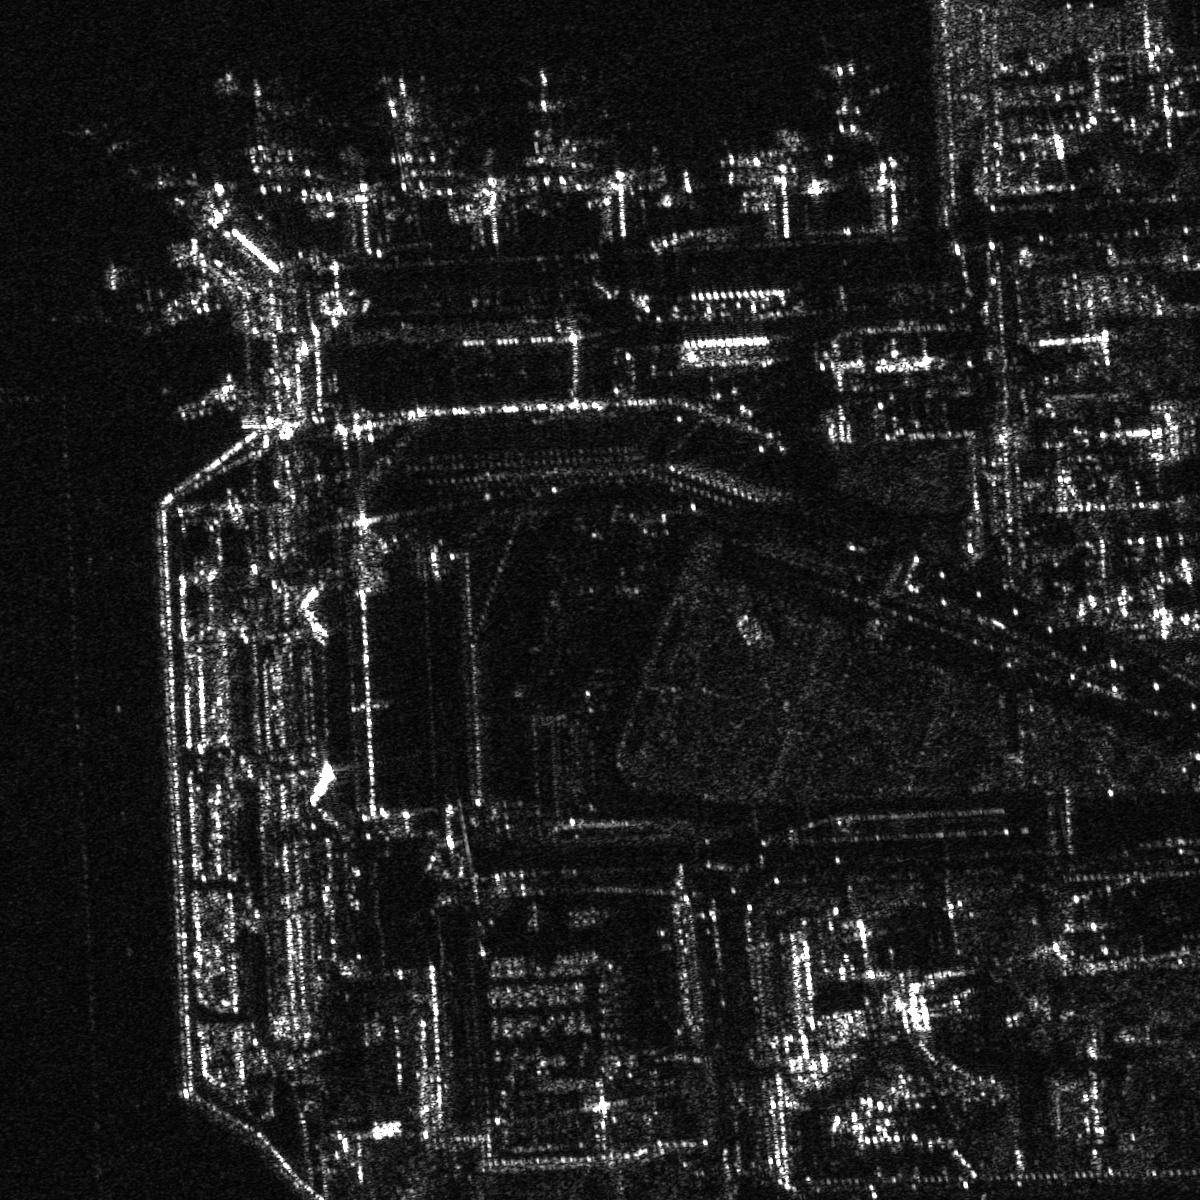A220: (805, 59, 897, 144), (373, 67, 438, 147)
Boeing787: (512, 64, 579, 137)
other: (224, 68, 290, 138)
